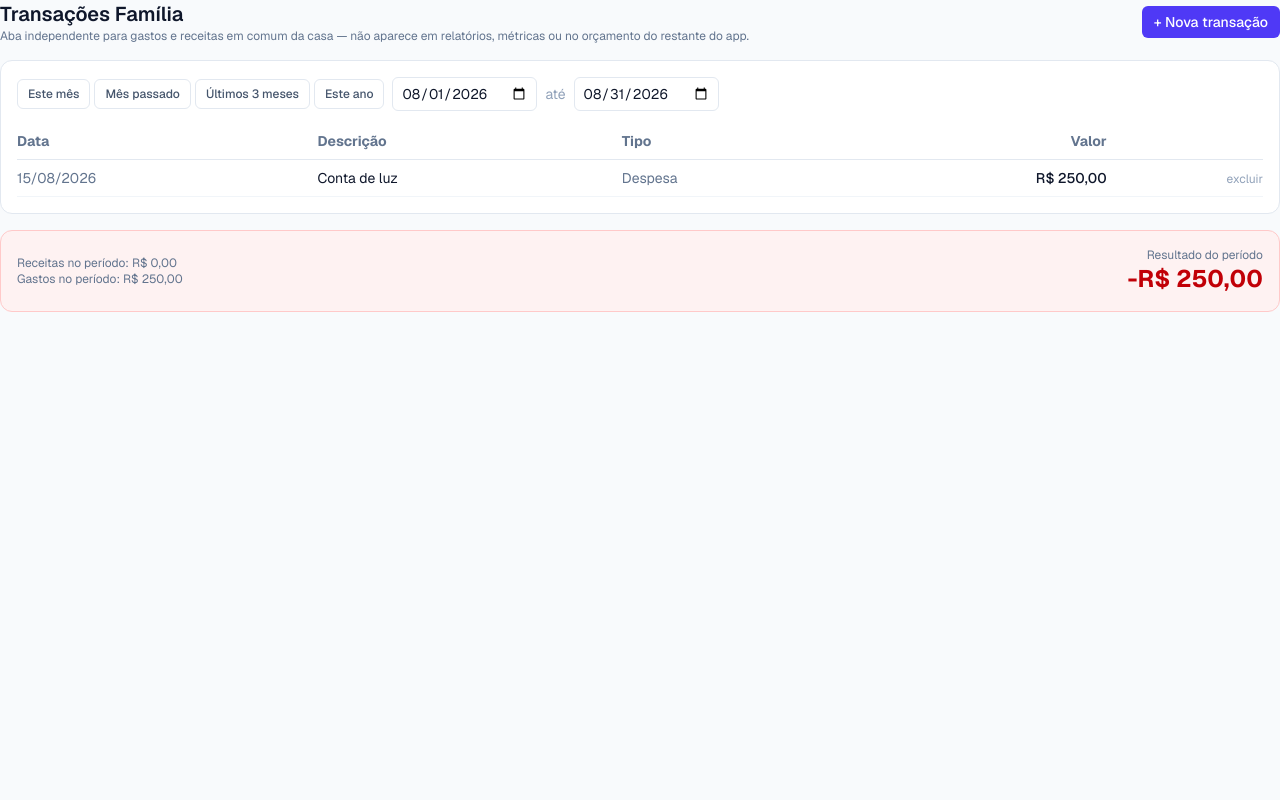
Test: página /transacoes-familia — exclusão › confirmar exclui e recarrega
The width and height of the screenshot is (1280, 800).
Expected: the text "Conta de luz" is shown, [318, 160, 622, 196]
Click the button "excluir".
click(1245, 179)  # box [1227, 171, 1263, 187]
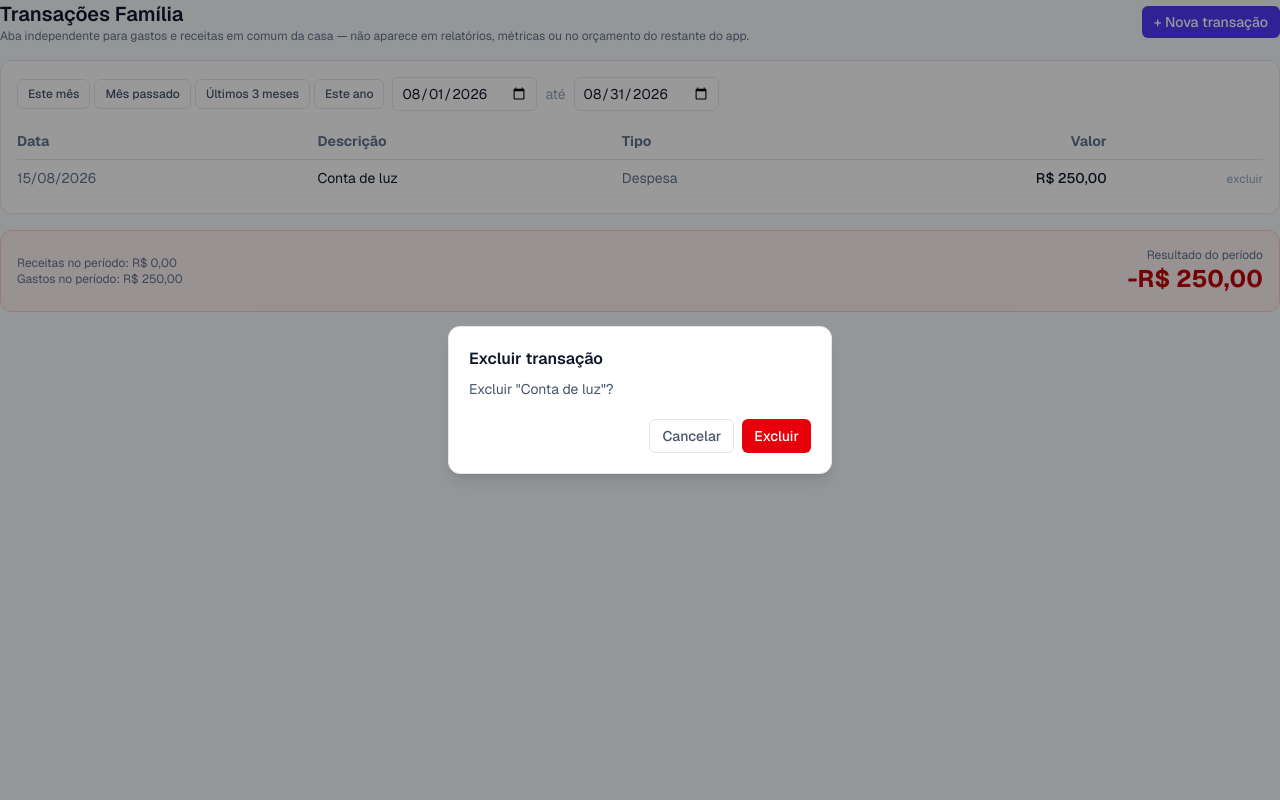
Click the button "Excluir".
click(777, 436)  # box [742, 419, 811, 453]
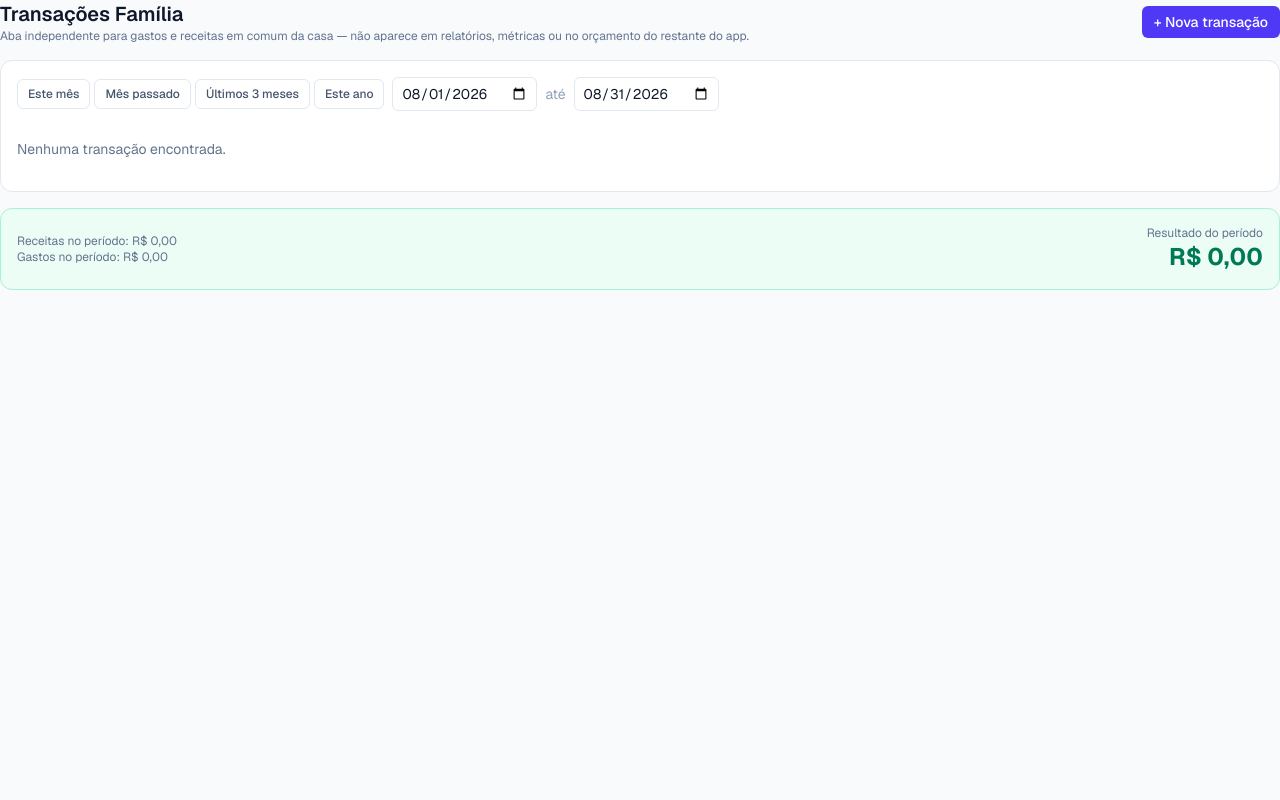
Expected: the text "Nenhuma transação encontrada." is shown, [17, 140, 226, 158]
